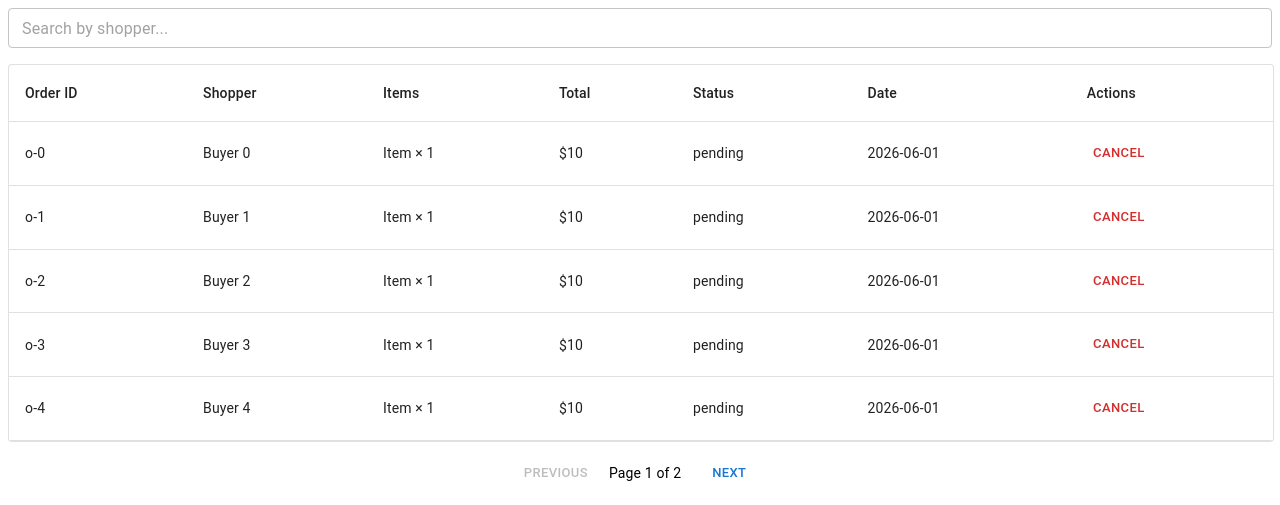
Order search and pagination › navigates to next page of orders
The image size is (1280, 505).
Expected: the text "Buyer 0" is shown, [187,122,367,185]
What coordinates should you click on to do the following:
click the button "Next"
I would click on:
 (729, 473)
Its box is [697,458,761,489].
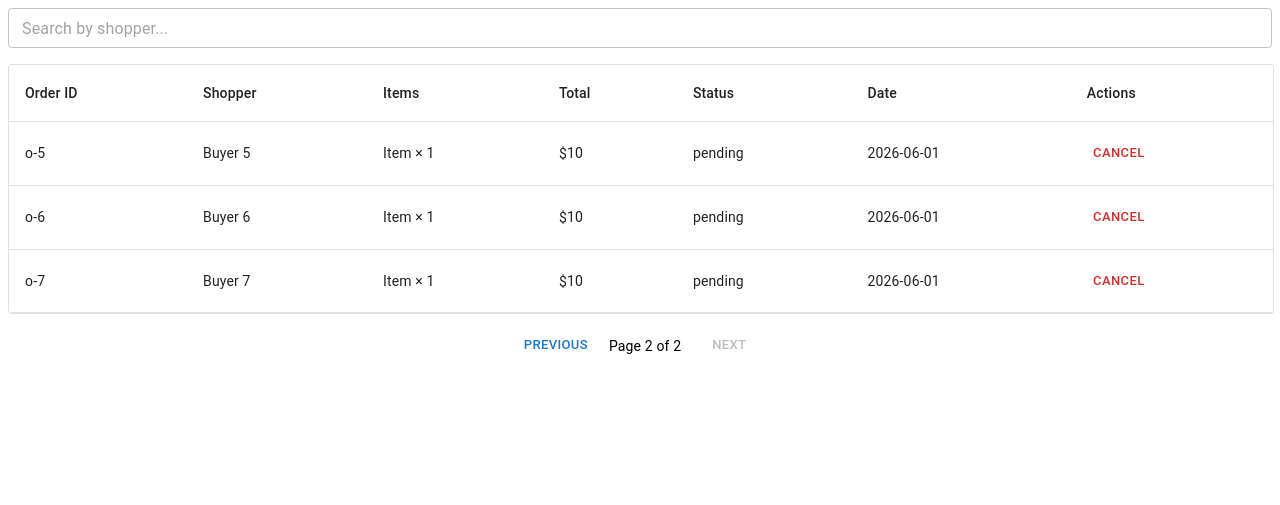
Now the text "Buyer 5" is shown, box [187,122,367,185]
Now the text "Buyer 0" is gone
